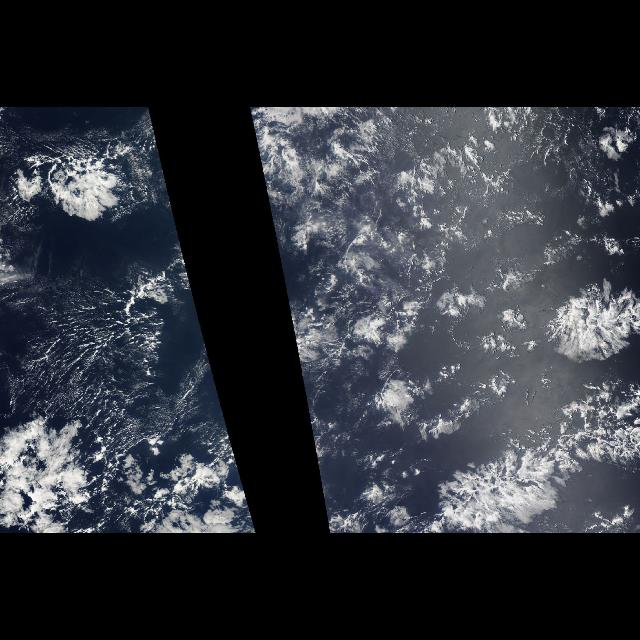Fish: (340, 374, 640, 534)
Flower: (453, 173, 635, 371)
Sugar: (13, 305, 208, 423)
